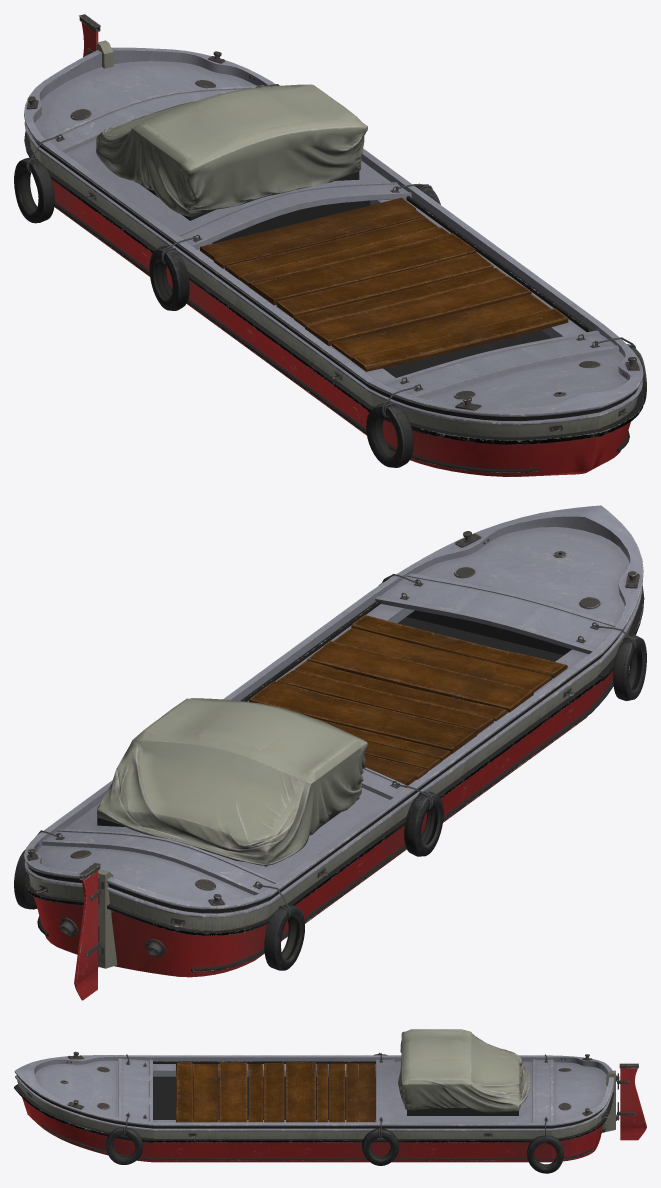
File: bulk_ship.fbx
The picture shows the model from 3 angles, top to bottom: view 1: azimuth 30°, elevation 25°; view 2: azimuth 150°, elevation 25°; view 3: azimuth 270°, elevation 25°; orthographic projection. The views are drawn at different scales.
Parts seen in each view (by area): view 1: 8ff18d6e-1dc6-4337-b89a-b19c0fc39f1b, 78dff30b-c45e-4c72-9e87-e40480660e32, 5d51d4b1-5488-48a0-9847-7a8055a9fd60, 04528500-ace4-4e04-97fd-ebfcc2eff0ce; view 2: 8ff18d6e-1dc6-4337-b89a-b19c0fc39f1b, 5d51d4b1-5488-48a0-9847-7a8055a9fd60, 78dff30b-c45e-4c72-9e87-e40480660e32, 04528500-ace4-4e04-97fd-ebfcc2eff0ce; view 3: 8ff18d6e-1dc6-4337-b89a-b19c0fc39f1b, 78dff30b-c45e-4c72-9e87-e40480660e32, 5d51d4b1-5488-48a0-9847-7a8055a9fd60, 04528500-ace4-4e04-97fd-ebfcc2eff0ce.
Boxes of the visible parts, x1,y1,x2,y2 form: 8ff18d6e-1dc6-4337-b89a-b19c0fc39f1b: (24,47,644,476); 78dff30b-c45e-4c72-9e87-e40480660e32: (200,197,568,371); 5d51d4b1-5488-48a0-9847-7a8055a9fd60: (96,84,367,216); 04528500-ace4-4e04-97fd-ebfcc2eff0ce: (14,14,646,467); 8ff18d6e-1dc6-4337-b89a-b19c0fc39f1b: (24,505,644,977); 5d51d4b1-5488-48a0-9847-7a8055a9fd60: (97,698,367,865); 78dff30b-c45e-4c72-9e87-e40480660e32: (249,615,567,785); 04528500-ace4-4e04-97fd-ebfcc2eff0ce: (14,531,646,1000); 8ff18d6e-1dc6-4337-b89a-b19c0fc39f1b: (14,1055,614,1162); 78dff30b-c45e-4c72-9e87-e40480660e32: (176,1062,375,1122); 5d51d4b1-5488-48a0-9847-7a8055a9fd60: (398,1029,529,1112); 04528500-ace4-4e04-97fd-ebfcc2eff0ce: (26,1051,646,1173).
Bounding box in the file's own units: 131 × 75.05 × 441.
Materials: 4 (4 with a texture image).
